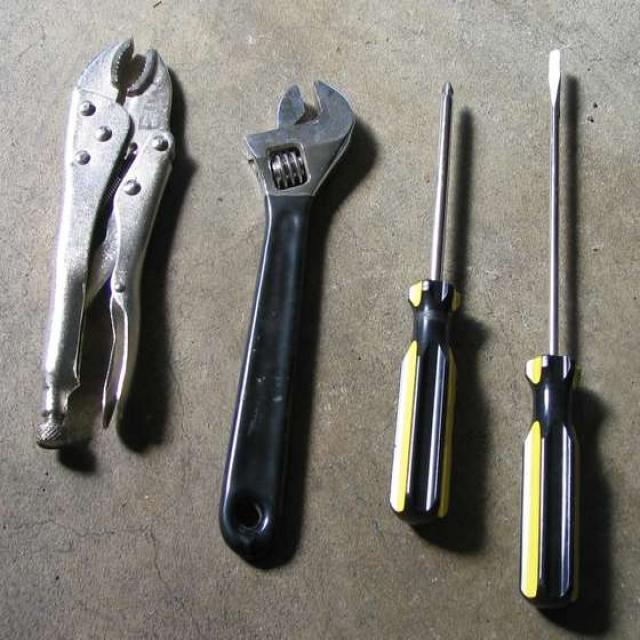pliers: (27, 24, 185, 464)
screwdriver: (512, 42, 587, 613), (380, 73, 470, 536)
wrench: (211, 68, 367, 569)
